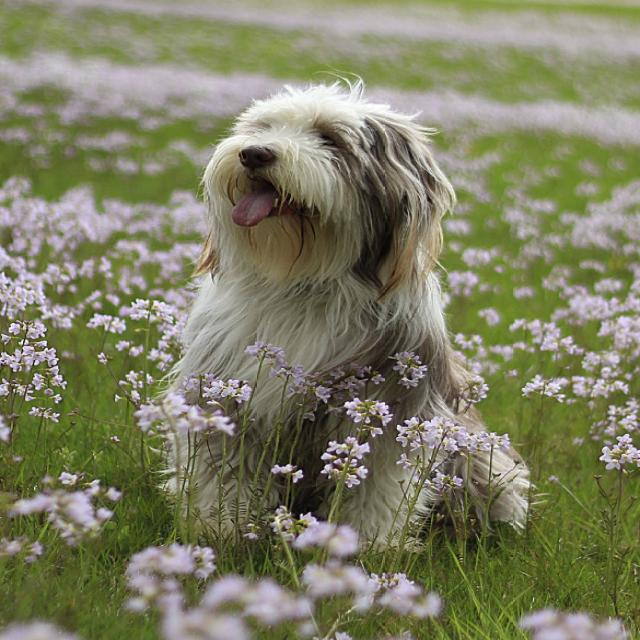dogs: (169, 88, 531, 566)
